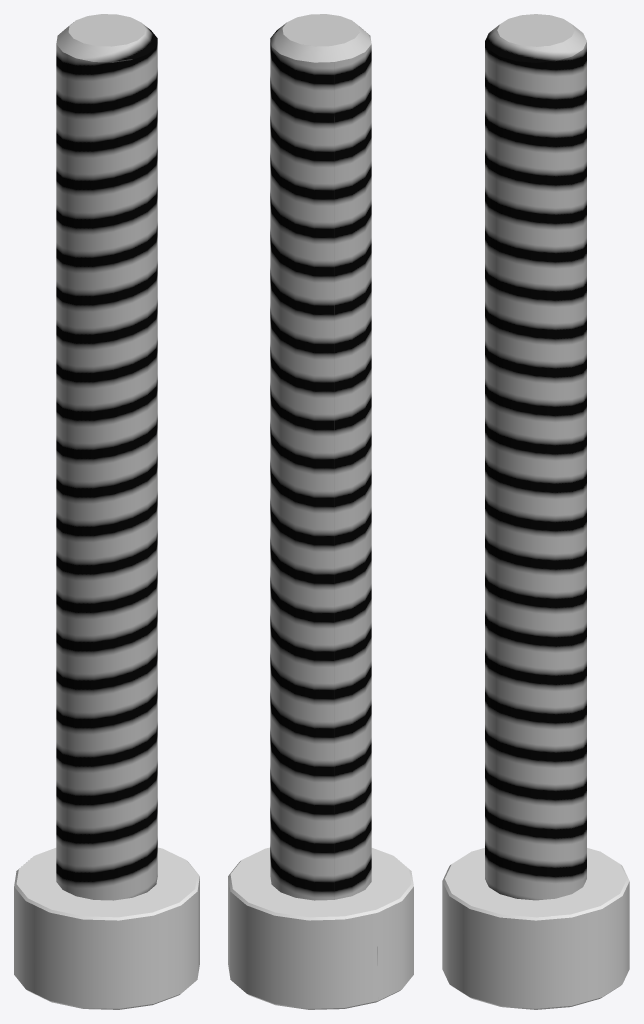
The model's file is vint_kuzov.fbx.
3 renders of one model, left to right at view 1: azimuth 30°, elevation 25°; view 2: azimuth 150°, elevation 25°; view 3: azimuth 270°, elevation 25°, orthographic.
Visible parts, largest first — view 1: vint_kuzov.001; view 2: vint_kuzov.001; view 3: vint_kuzov.001.
Boxes of the visible parts, x1,y1,x2,y2 form: vint_kuzov.001: [14, 14, 199, 1009]; vint_kuzov.001: [228, 14, 413, 1009]; vint_kuzov.001: [442, 14, 629, 1009].
Bounding box in the file's own units: 0.55 × 3.05 × 0.55.
1 material, 1 textured.
